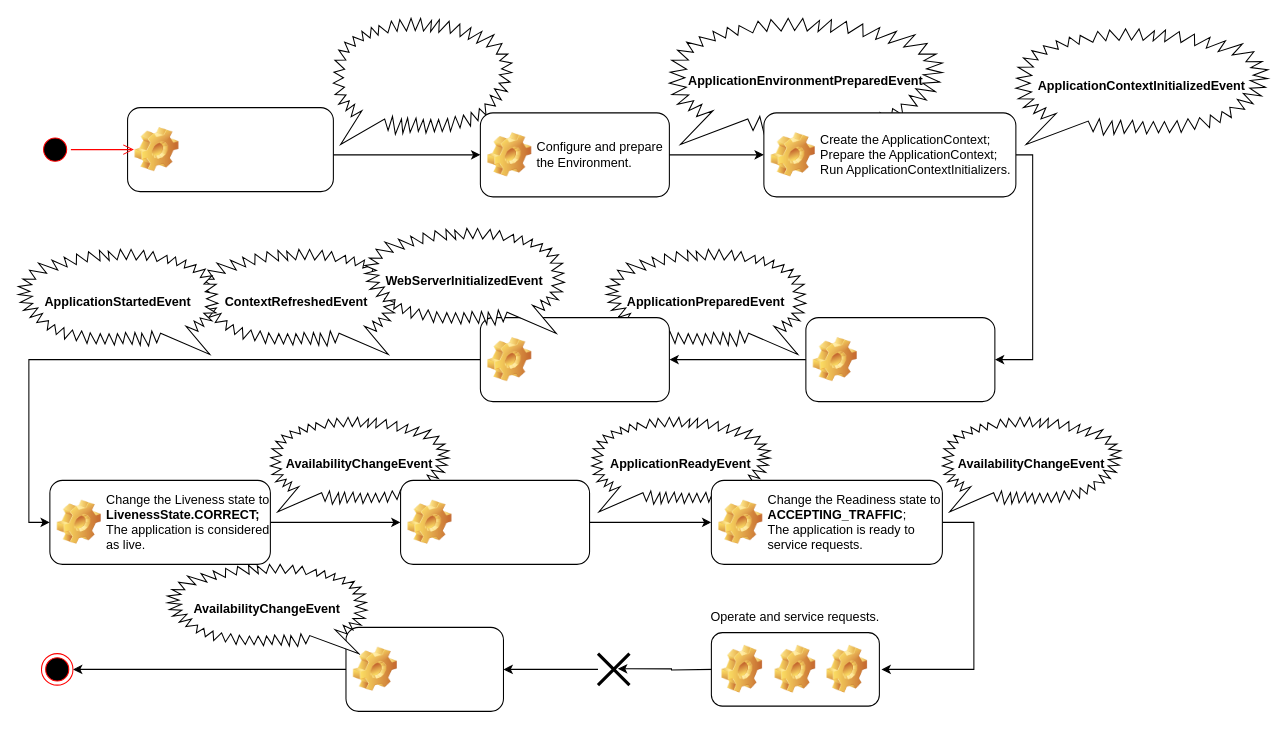
Some shapes in this 1286 by 730 pixel diagram are drawn without their labels. The centre of each missing label's shape, as x and y in pixels:
ApplicationStartingEvent: point 422,80
Call application and command-line runners.: point 495,521
Initiate shutdown hooks.: point 424,668
Load bean definitions.: point 900,359
Refresh the context.: point 574,359
Startup configuration; Registration of listeners and initializers.: point 230,149
